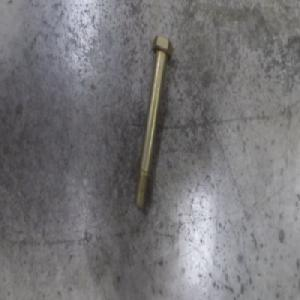Bolt: (133, 34, 172, 212)
